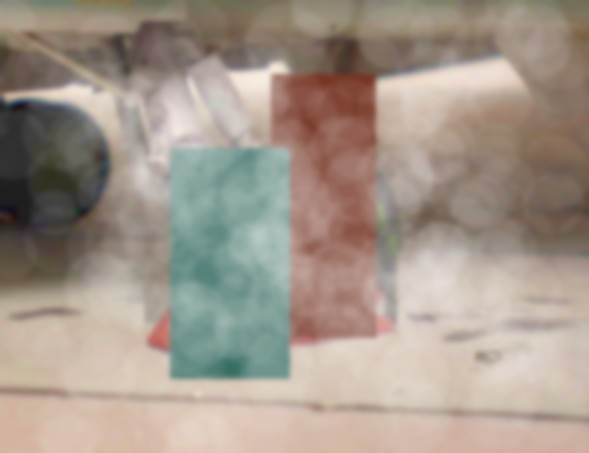chock: (212, 235, 397, 346), (202, 205, 385, 315), (144, 263, 299, 357), (188, 255, 314, 332)
wheel: (254, 146, 404, 316), (4, 100, 113, 231)
